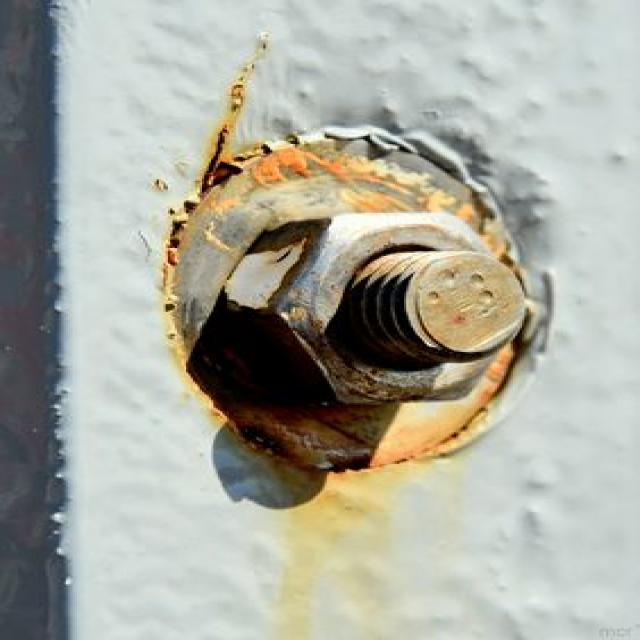bolt nut: (218, 205, 526, 408)
